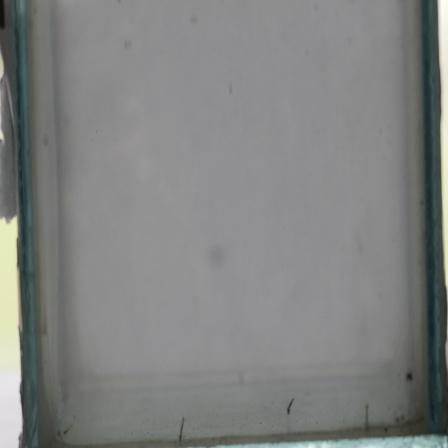Jentik-Nyamuk: (175, 415, 189, 445), (283, 394, 297, 417)
